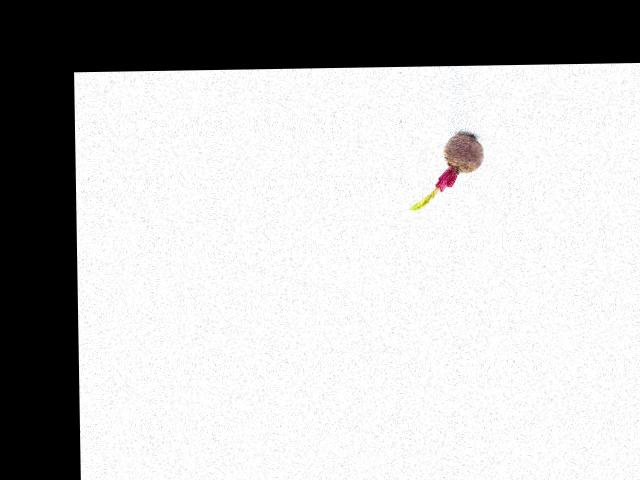beet: (410, 133, 485, 210)
